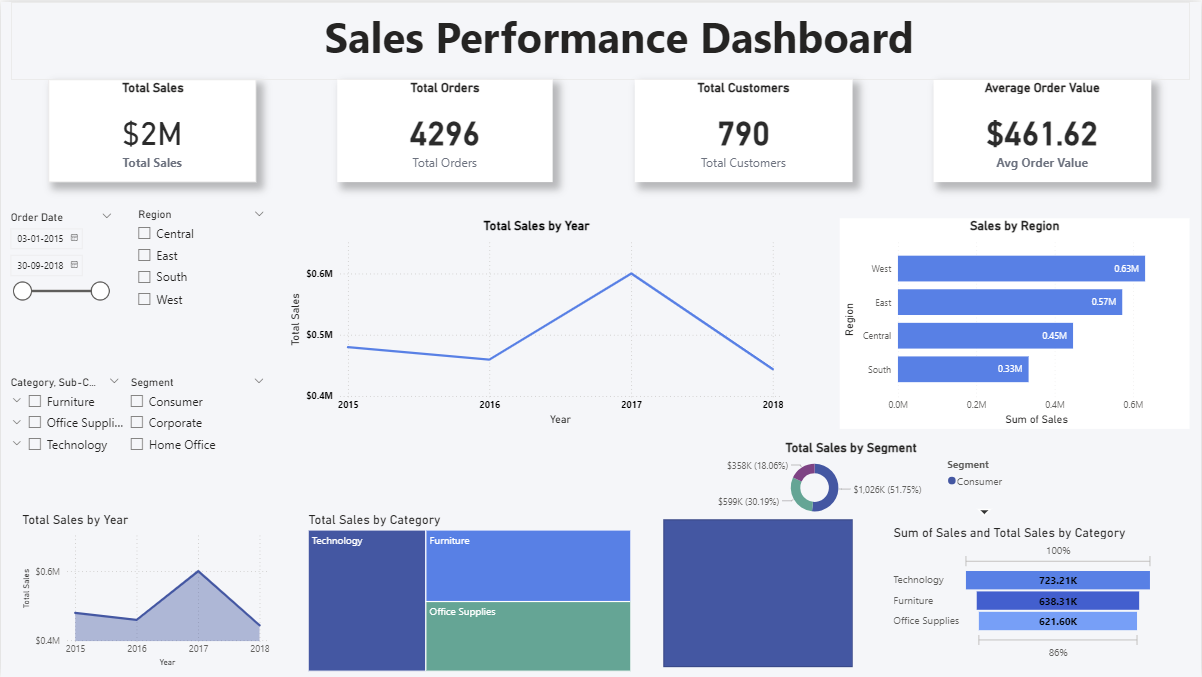

The page's visual inventory and layout, read from the dashboard file:
{"tool":"powerbi","page":{"name":"Page 1","canvas":[1600,900],"ordinal":0},"visuals":[{"type":"card","title":"Total Sales","fields":{"Values":["train.Total Sales"]},"box":[62.9,102.9,277.1,137.1],"z":0},{"type":"card","title":"Average Order Value","fields":{"Values":["train.Avg Order Value"]},"box":[1242.9,102.9,290,137.1],"z":1000},{"type":"lineChart","fields":{"Category":["train.Order Date.Variation.Date Hierarchy.Year","train.Order Date.Variation.Date Hierarchy.Quarter","train.Order Date.Variation.Date Hierarchy.Month","train.Order Date.Variation.Date Hierarchy.Day"],"Y":["train.Total Sales"]},"box":[379.4,288.9,668.3,281],"z":2000},{"type":"donutChart","fields":{"Category":["train.Segment"],"Y":["train.Total Sales"]},"box":[903.2,582.5,460.3,109.5],"z":3000},{"type":"areaChart","fields":{"Category":["train.Order Date.Variation.Date Hierarchy.Year","train.Order Date.Variation.Date Hierarchy.Quarter","train.Order Date.Variation.Date Hierarchy.Month","train.Order Date.Variation.Date Hierarchy.Day"],"Y":["train.Total Sales"]},"box":[23.8,679.4,339.7,211.1],"z":4000},{"type":"treemap","fields":{"Group":["train.Region","train.Category"],"Values":["train.Total Sales"]},"box":[404.8,679.4,439.7,217.5],"z":5000},{"type":"funnel","fields":{"Y":["Sum(train.Sales)"],"Category":["train.Category","train.Sub-Category"]},"box":[1185.7,696.8,357.1,184.1],"z":6000},{"type":"slicer","fields":{"Values":["train.Order Date"]},"box":[0,272.9,160,210],"z":7000},{"type":"slicer","fields":{"Values":["train.Region"]},"box":[170,270,193.3,213.3],"z":8000},{"type":"slicer","fields":{"Values":["train.Category","train.Sub-Category"]},"box":[0,493.3,170,226.7],"z":9000},{"type":"slicer","fields":{"Values":["train.Segment"]},"box":[160,492.9,202.9,227.1],"z":10000},{"type":"textbox","box":[12.7,0,1573,103.2],"z":11000},{"type":"card","title":"Total Orders","fields":{"Values":["train.Total Orders"]},"box":[448.6,102.9,287.1,137.1],"z":12000},{"type":"card","title":"Total Customers","fields":{"Values":["train.Total Customers"]},"box":[844.3,102.9,290,137.1],"z":13000},{"type":"clusteredBarChart","title":"Sales by Region","fields":{"Category":["train.Region"],"Y":["Sum(train.Sales)"]},"box":[1119,288.9,466.7,281],"z":14000},{"type":"shape","box":[882.5,690.5,252.4,196.8],"z":14001}]}

Visuals, with their boxes in screenshot pixels (x1, y1, x2, y2), scaled from the page's 1600x900 canvas onto the 1202x677 screenshot:
"Total Sales" card: box(47, 77, 255, 181)
"Average Order Value" card: box(934, 77, 1152, 181)
lineChart - train.Order Date.Variation.Date Hierarchy.Year x train.Order Date.Variation.Date Hierarchy.Quarter: box(285, 217, 787, 429)
donutChart - train.Segment x train.Total Sales: box(679, 438, 1024, 521)
areaChart - train.Order Date.Variation.Date Hierarchy.Year x train.Order Date.Variation.Date Hierarchy.Quarter: box(18, 511, 273, 670)
treemap - train.Region x train.Category: box(304, 511, 634, 675)
funnel - Sum(train.Sales) x train.Category: box(891, 524, 1159, 663)
slicer - train.Order Date: box(0, 205, 120, 363)
slicer - train.Region: box(128, 203, 273, 364)
slicer - train.Category x train.Sub-Category: box(0, 371, 128, 542)
slicer - train.Segment: box(120, 371, 273, 542)
textbox: box(10, 0, 1191, 78)
"Total Orders" card: box(337, 77, 553, 181)
"Total Customers" card: box(634, 77, 852, 181)
"Sales by Region" clusteredBarChart: box(841, 217, 1191, 429)
shape: box(663, 519, 853, 667)
